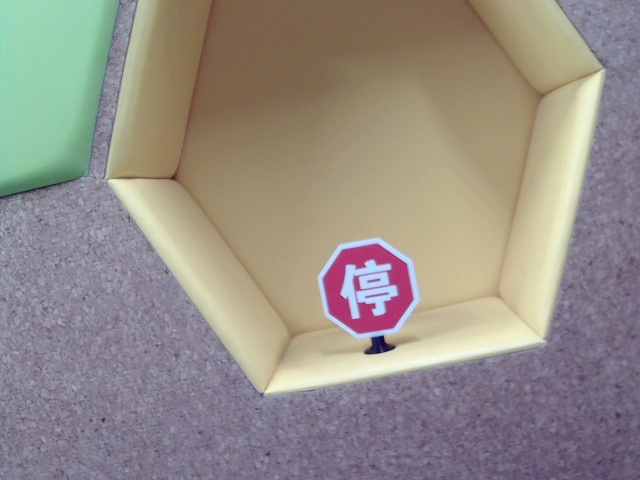stop: (335, 262, 397, 320)
